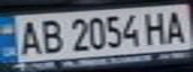0: (87, 13, 109, 51)
2: (66, 15, 90, 53)
4: (121, 11, 145, 47)
5: (103, 12, 124, 50)
A: (12, 18, 45, 57), (160, 7, 190, 44)
B: (36, 17, 66, 55)
H: (142, 9, 172, 46)
